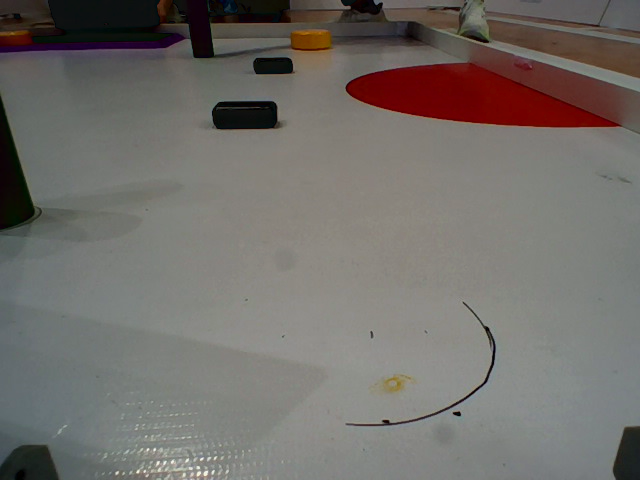black: (211, 100, 281, 132), (253, 55, 300, 79), (290, 29, 333, 50)
kuang: (1, 26, 191, 50)
yellow: (1, 28, 35, 47)
zhuzi: (1, 90, 42, 230), (183, 1, 218, 62)
